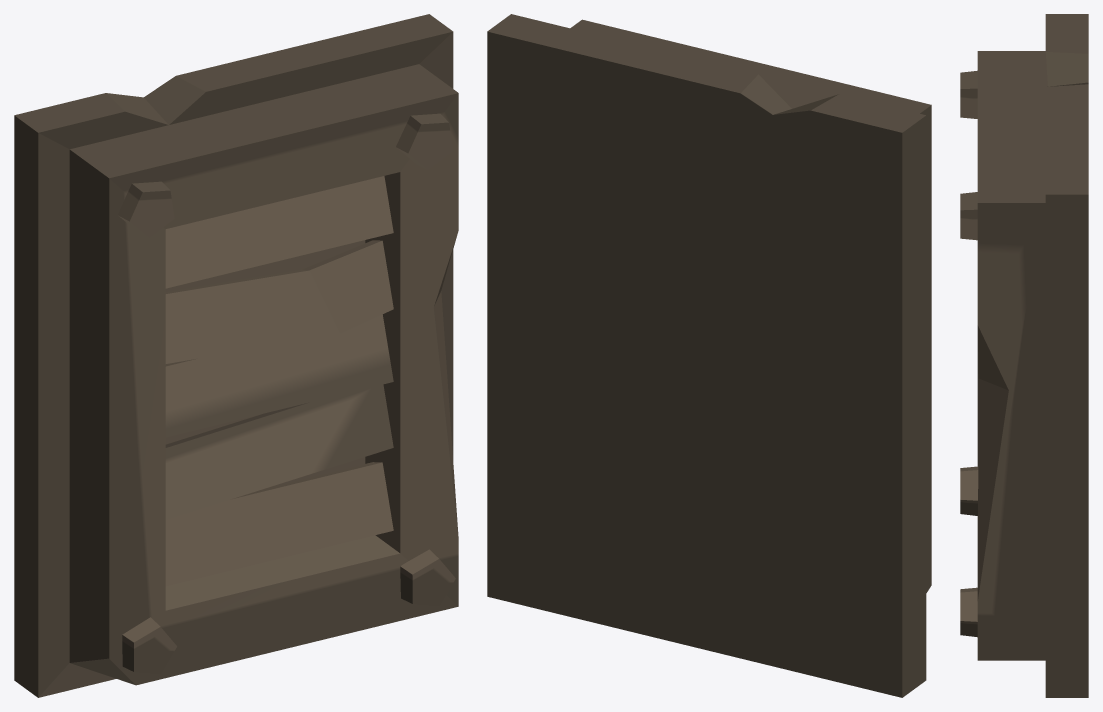
File: SM_Prop_Greeble_03.fbx
3 renders of one model, left to right at view 1: azimuth 30°, elevation 25°; view 2: azimuth 150°, elevation 25°; view 3: azimuth 270°, elevation 25°, orthographic. The views are drawn at different scales.
Parts seen in each view (by area): view 1: SM_Prop_Greeble_03; view 2: SM_Prop_Greeble_03; view 3: SM_Prop_Greeble_03.
Boxes of the visible parts, x1=… form: SM_Prop_Greeble_03: x1=14, y1=14, x2=458, y2=697; SM_Prop_Greeble_03: x1=487, y1=14, x2=931, y2=697; SM_Prop_Greeble_03: x1=960, y1=14, x2=1088, y2=697.
Bounding box in the file's own units: 46.68 × 60.72 × 14.01.
